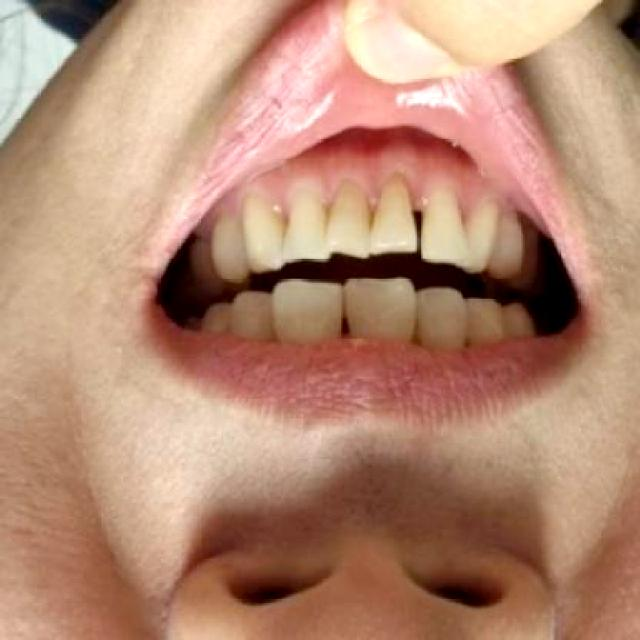Plaque: (371, 176, 412, 213)
